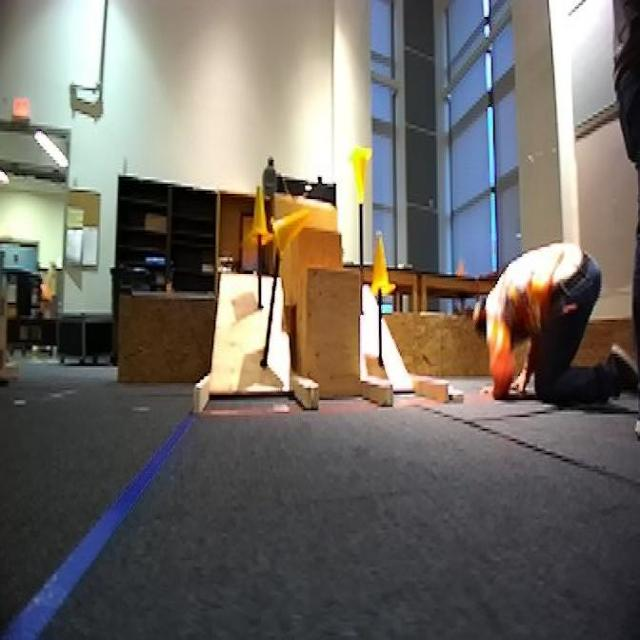frc_cone: (275, 200, 318, 253), (346, 141, 375, 206), (369, 228, 394, 301), (247, 187, 275, 249)
